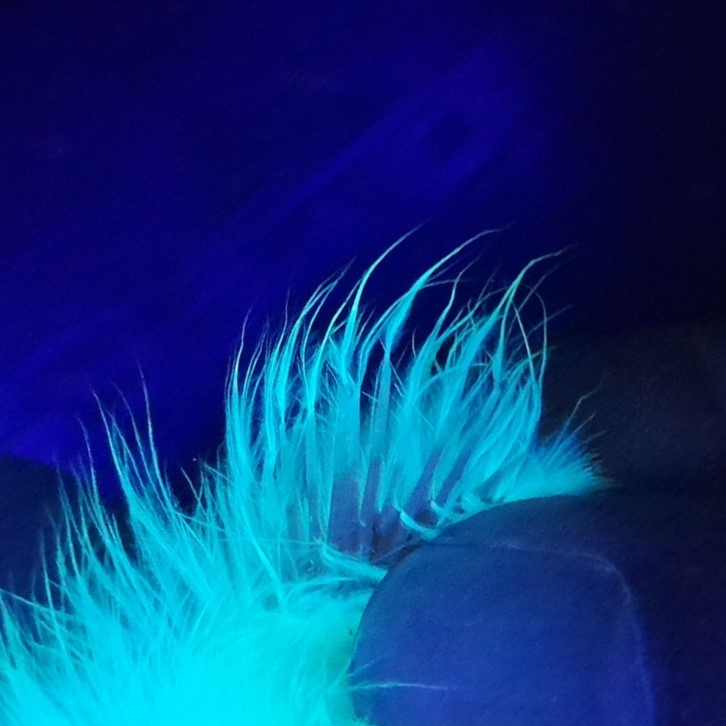male: (276, 353, 528, 577)
